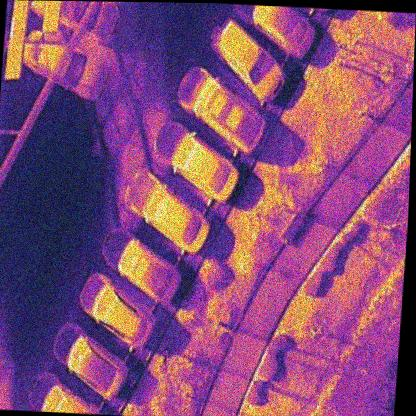Hotspot: (6, 28, 25, 79)
